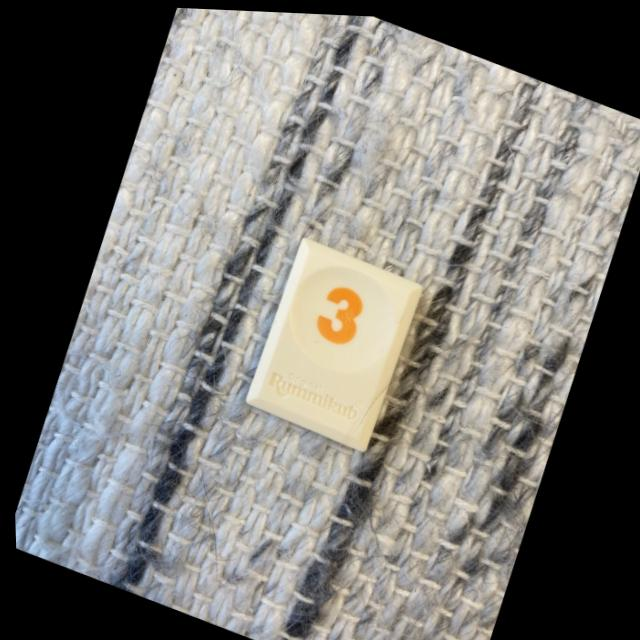orange_3: (244, 235, 420, 448)
